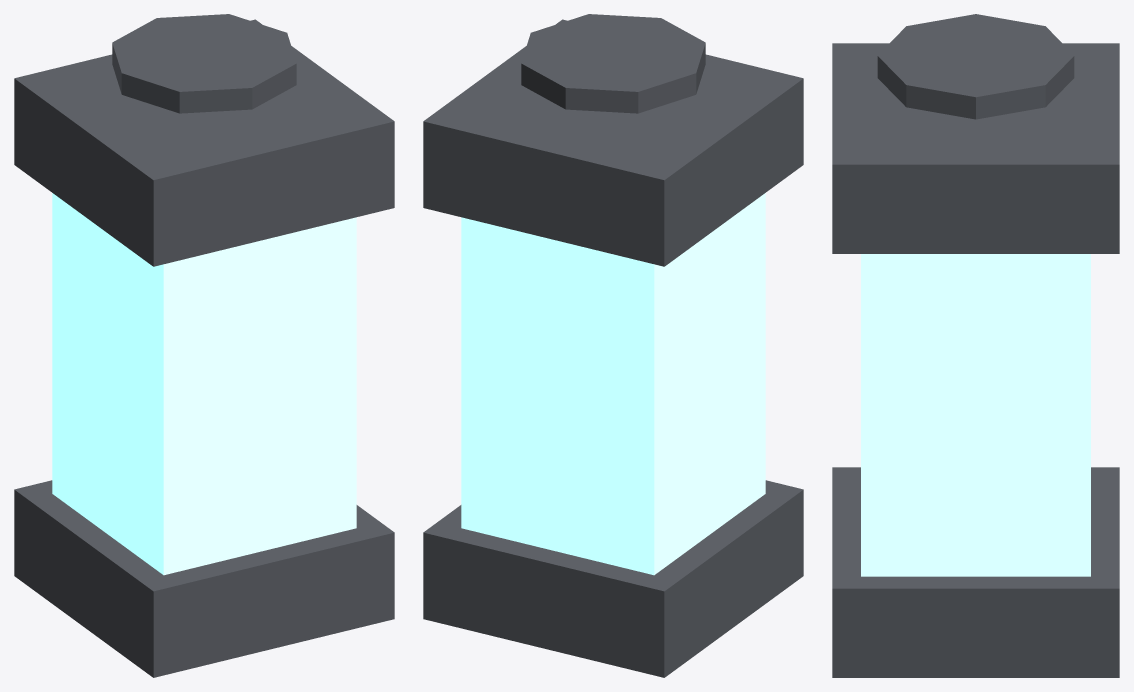
The model's file is haunted_lantern_green.glb.
3 renders of one model, left to right at view 1: azimuth 30°, elevation 25°; view 2: azimuth 150°, elevation 25°; view 3: azimuth 270°, elevation 25°, orthographic. The views are drawn at different scales.
Visible parts, largest first — view 1: Haunted_Lantern_Green; view 2: Haunted_Lantern_Green; view 3: Haunted_Lantern_Green.
Part boxes in pixels (box(x1,y1,x2,y2)): Haunted_Lantern_Green: box(14, 14, 394, 677); Haunted_Lantern_Green: box(423, 14, 803, 677); Haunted_Lantern_Green: box(832, 14, 1119, 677).
Size of the model in its own units: 0.35 by 0.755 by 0.35.
